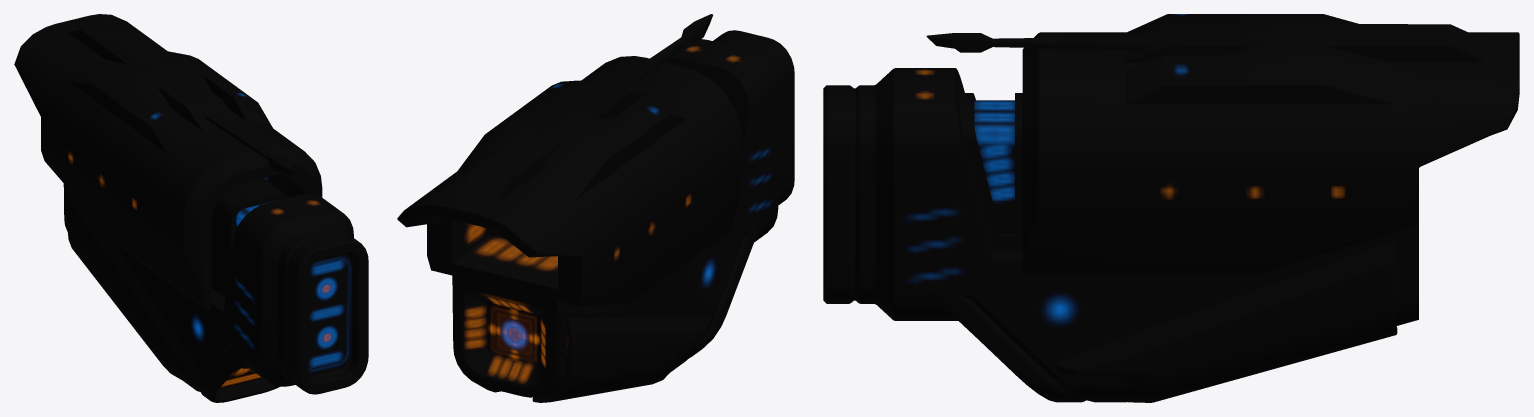
Rendered from SM_R_Engine_1.fbx.
3 renders of one model, left to right at view 1: azimuth 30°, elevation 25°; view 2: azimuth 150°, elevation 25°; view 3: azimuth 270°, elevation 25°, orthographic. The views are drawn at different scales.
Parts seen in each view (by area): view 1: SM_R_Engine_1; view 2: SM_R_Engine_1; view 3: SM_R_Engine_1.
Boxes of the visible parts, x1=… form: SM_R_Engine_1: x1=14, y1=14, x2=368, y2=402; SM_R_Engine_1: x1=397, y1=14, x2=794, y2=402; SM_R_Engine_1: x1=823, y1=14, x2=1519, y2=402.
Bounding box in the file's own units: 40.73 × 73.8 × 133.
